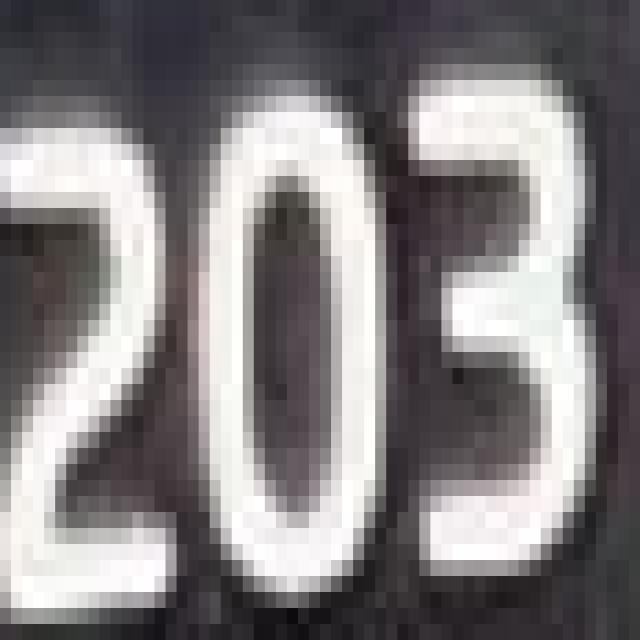character: (400, 53, 616, 597), (188, 78, 394, 624), (0, 88, 185, 624)
